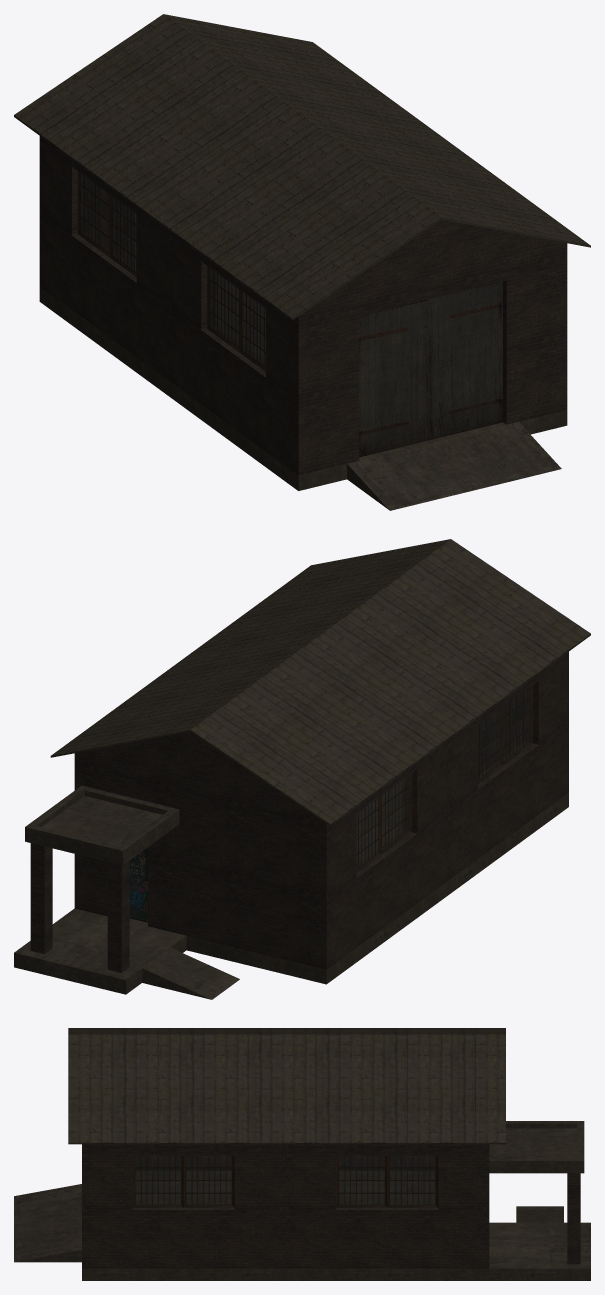
The model's file is warehouse_mx_2.glb.
The picture shows the model from 3 angles, top to bottom: view 1: azimuth 30°, elevation 25°; view 2: azimuth 150°, elevation 25°; view 3: azimuth 270°, elevation 25°; orthographic projection. The views are drawn at different scales.
Parts seen in each view (by area): view 1: warehouse_mx_2, garage_door_hr_3_piece_2, garage_door_hr_3_piece_1; view 2: warehouse_mx_2, door_hr_9, garage_door_hr_3_piece_1; view 3: warehouse_mx_2.
Boxes of the visible parts, x1=… form: warehouse_mx_2: x1=14, y1=14, x2=590, y2=510; garage_door_hr_3_piece_2: x1=429, y1=281, x2=502, y2=439; garage_door_hr_3_piece_1: x1=359, y1=299, x2=429, y2=457; warehouse_mx_2: x1=14, y1=539, x2=590, y2=999; door_hr_9: x1=129, y1=849, x2=147, y2=922; garage_door_hr_3_piece_1: x1=478, y1=706, x2=503, y2=774; warehouse_mx_2: x1=14, y1=1028, x2=590, y2=1280.
Size of the model in its own units: 8 by 6.32 by 17.
8 materials, 8 textured.
